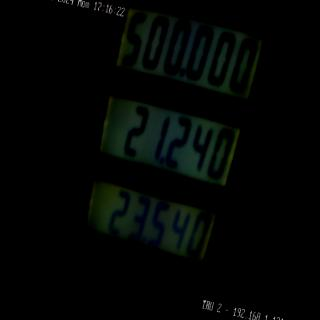screen: (64, 0, 275, 304)
